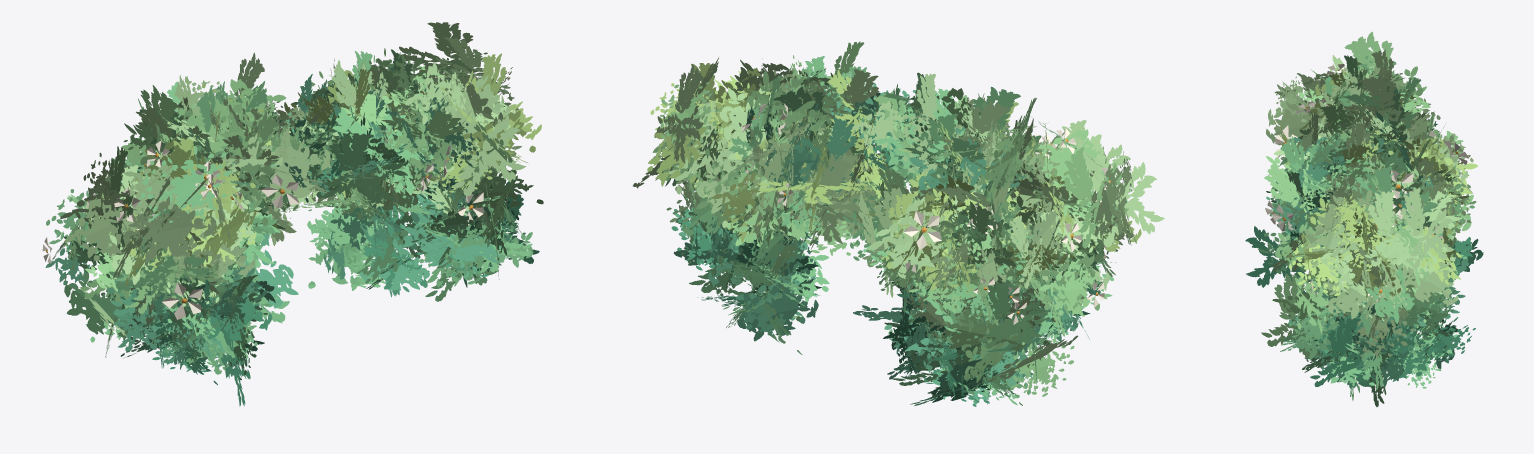
File: Hedge_02_Flower_White.glb
3 renders of one model, left to right at view 1: azimuth 30°, elevation 25°; view 2: azimuth 150°, elevation 25°; view 3: azimuth 270°, elevation 25°, orthographic. The views are drawn at different scales.
Visible parts, largest first — view 1: Hedge_02_Flower_White; view 2: Hedge_02_Flower_White; view 3: Hedge_02_Flower_White.
Boxes of the visible parts, x1,y1,x2,y2 form: Hedge_02_Flower_White: (42,22,543,406); Hedge_02_Flower_White: (633,41,1164,406); Hedge_02_Flower_White: (1245,31,1483,406).
Size of the model in its own units: 2.9 by 1.67 by 1.62.
Materials: 8 (6 with a texture image).
